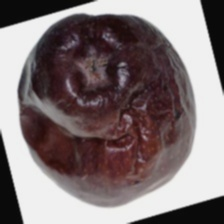apple: (37, 15, 197, 200)
